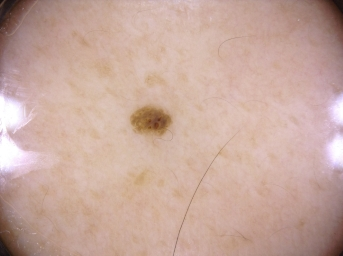seborrheic keratosis: (113, 95, 186, 143)
